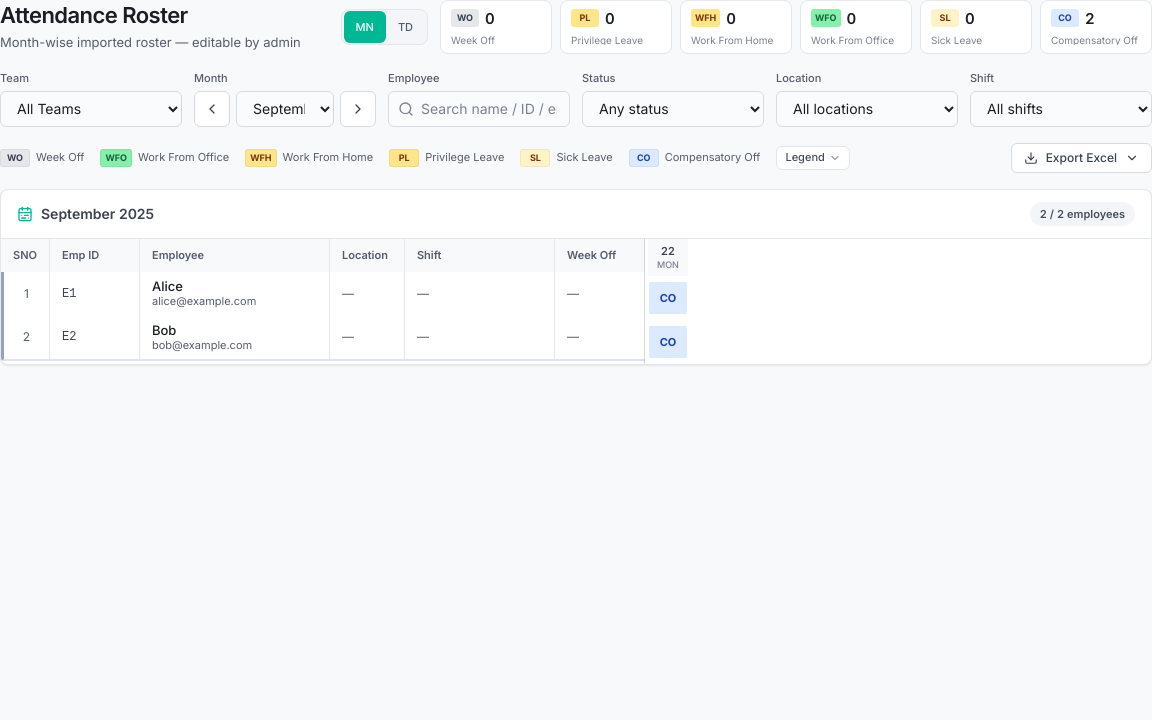
Test: AdminRosterPage CO status detail › does not render an HPE Holiday row for a non-HPE CO
Expected: the text "Alice" is shown, [152, 278, 183, 294]
Click the 1st button "CO". click: (668, 298)
box: [649, 282, 687, 314]
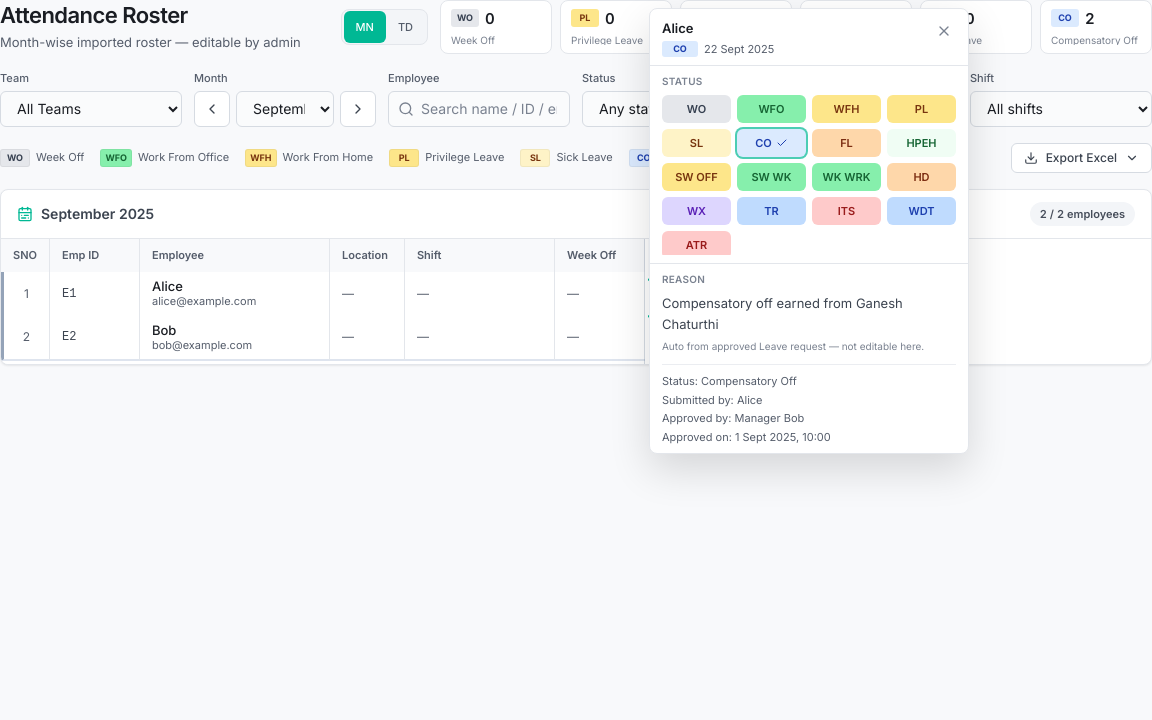
Expected: the text "Approved by: Manager Bob" is shown, [662, 411, 804, 425]
